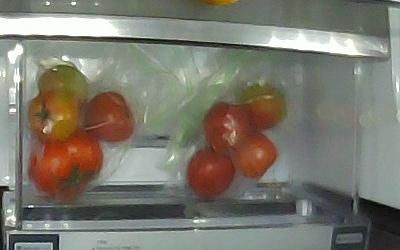tomato_vinyl: (28, 134, 103, 201), (85, 92, 136, 142), (29, 92, 80, 141), (188, 148, 234, 200), (241, 84, 289, 130), (234, 132, 280, 179), (204, 102, 249, 150), (36, 64, 91, 95)
